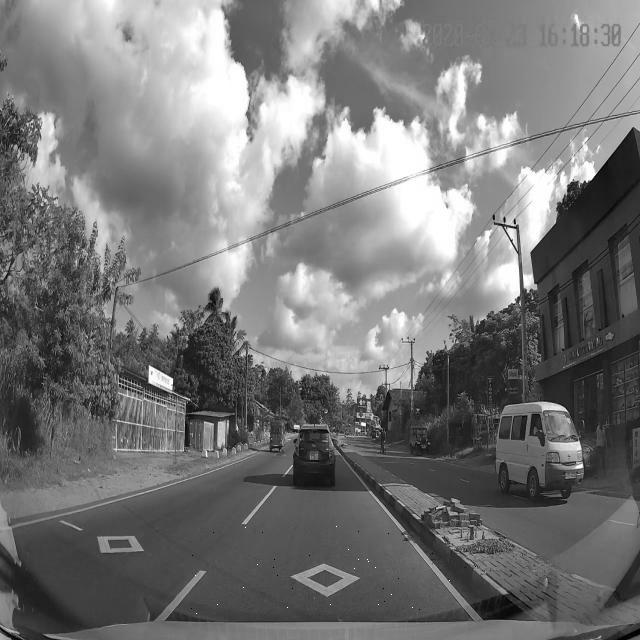diamond: (155, 526, 482, 614)
